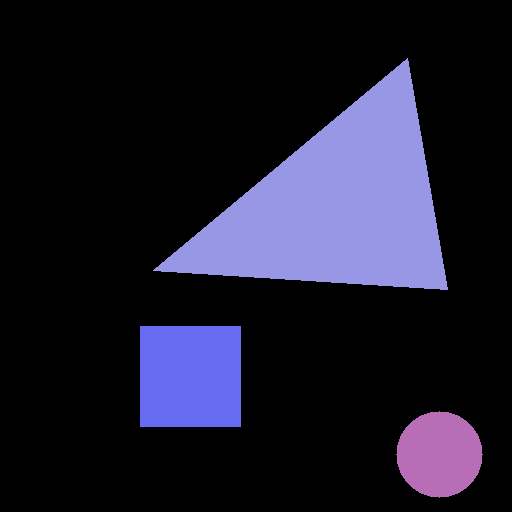circle: (396, 411, 482, 497)
square: (140, 326, 240, 426)
triangle: (153, 58, 447, 289)
